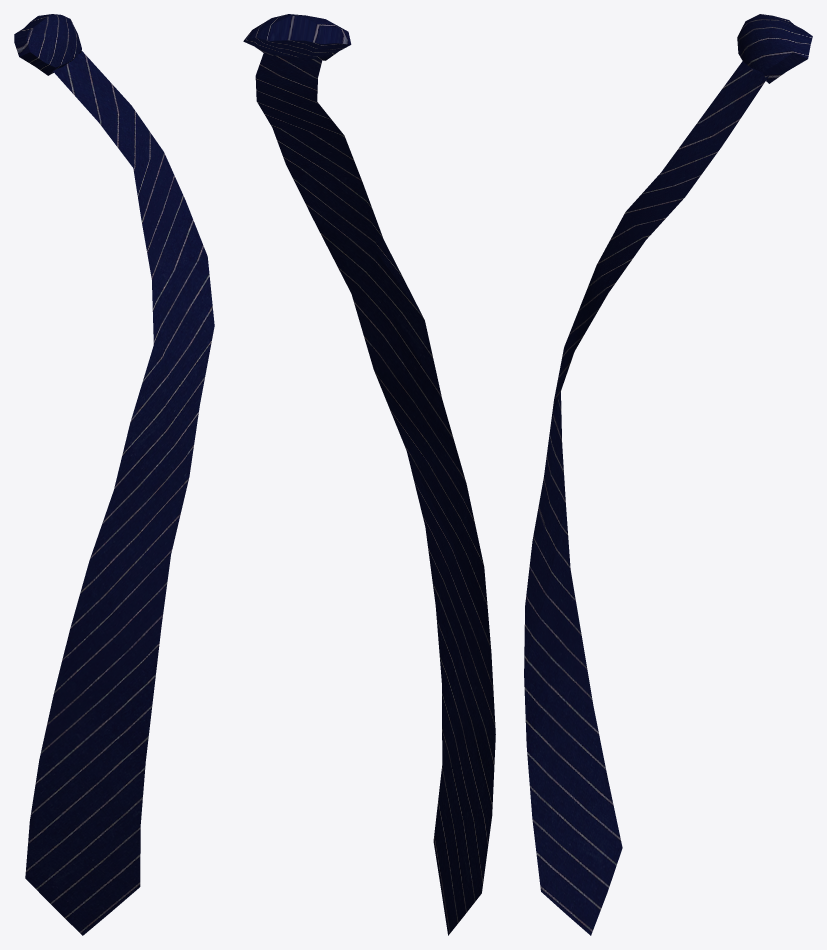
Rendered from Pose-12_Tie-4.fbx.
The picture shows the model from 3 angles, left to right: view 1: azimuth 30°, elevation 25°; view 2: azimuth 150°, elevation 25°; view 3: azimuth 270°, elevation 25°; orthographic projection. The views are drawn at different scales.
Parts seen in each view (by area): view 1: Pose-12_Tie-4; view 2: Pose-12_Tie-4; view 3: Pose-12_Tie-4.
Part boxes in pixels (x1,y1,x2,y2): Pose-12_Tie-4: (14, 14, 214, 935); Pose-12_Tie-4: (243, 14, 495, 935); Pose-12_Tie-4: (524, 14, 812, 935).
Bounding box in the file's own units: 12.29 × 55.73 × 15.48.
